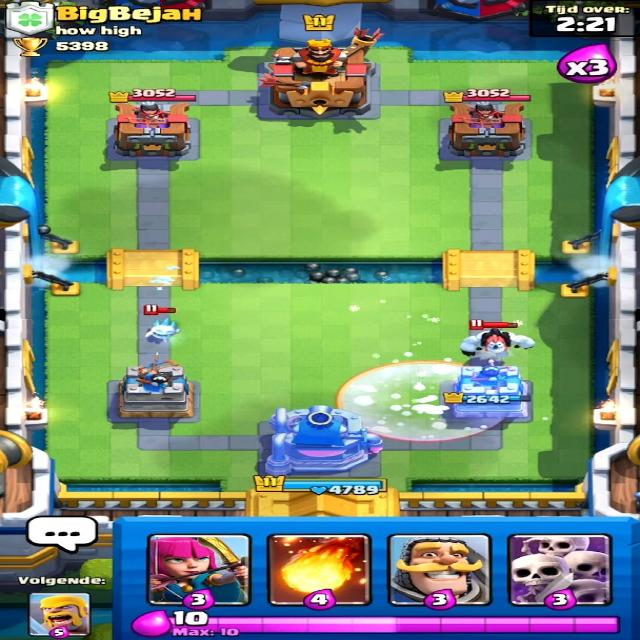Enemy_Ice_Golem_Troop: (454, 328, 538, 364)
Enemy_Ice_Spirit_Troop: (133, 320, 188, 340)
Fireball_Card: (274, 529, 358, 605)
